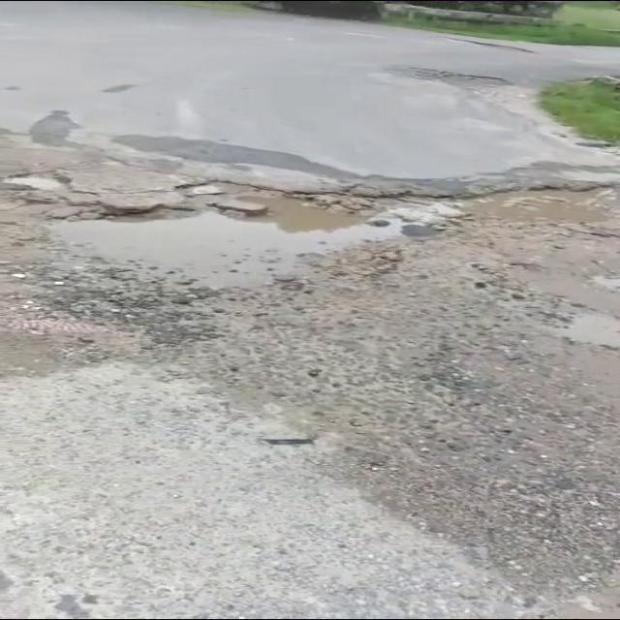lubang: (2, 129, 600, 517)
